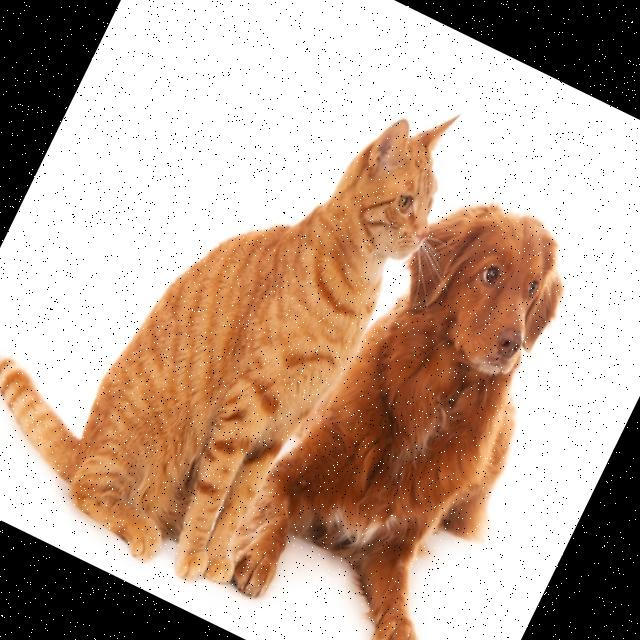Dog: (214, 161, 617, 640)
